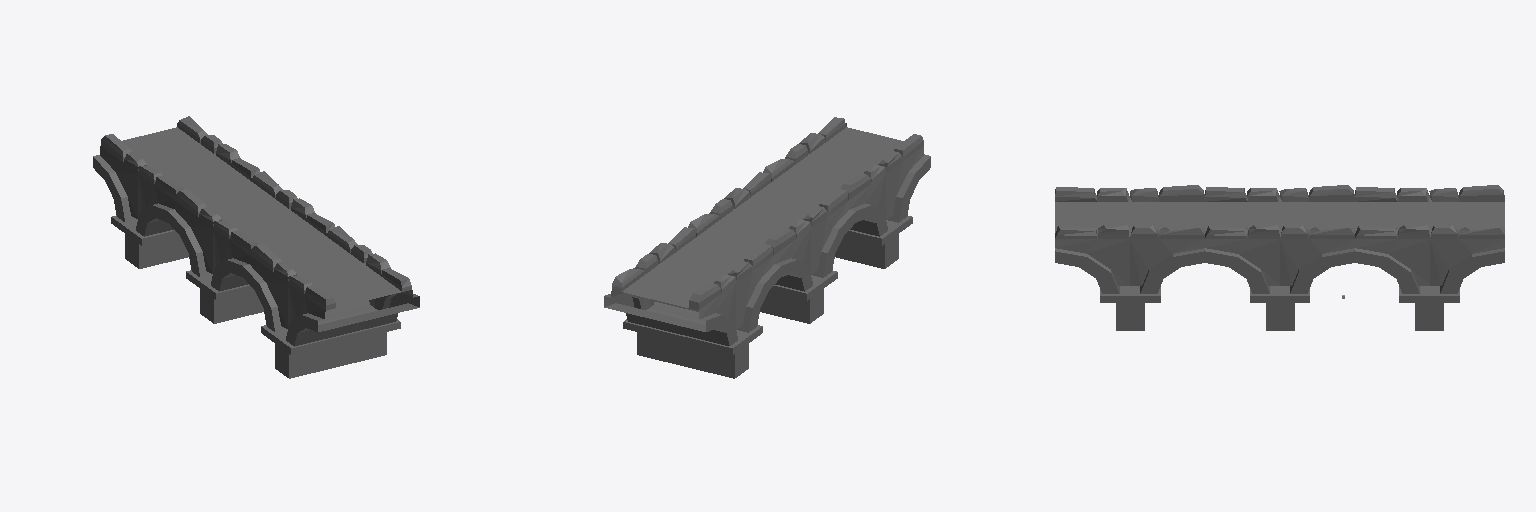
File: bridge2.obj
The picture shows the model from 3 angles: view 1: azimuth 30°, elevation 25°; view 2: azimuth 150°, elevation 25°; view 3: azimuth 270°, elevation 25°; orthographic projection.
Parts seen in each view (by area): view 1: Mesh_Tube01; view 2: Mesh_Tube01; view 3: Mesh_Tube01.
Part boxes in pixels (x1,y1,x2,y2): Mesh_Tube01: (93, 116, 419, 378); Mesh_Tube01: (604, 117, 930, 378); Mesh_Tube01: (1055, 185, 1504, 330).
Bounding box in the file's own units: 96.91 × 86.12 × 346.